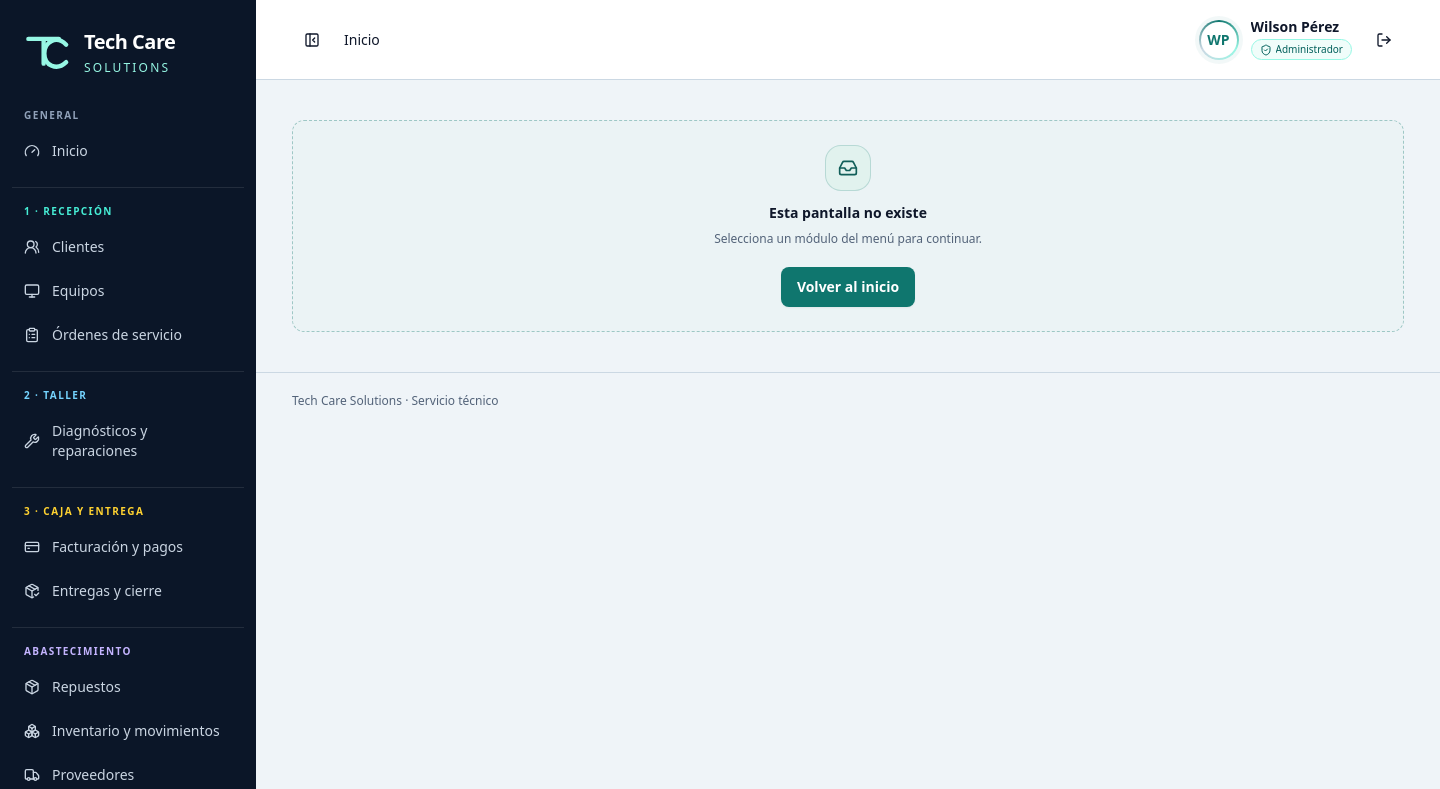
navegación y sesión de Tech Care Solutions › vuelve al inicio desde ruta desconocida
Click the link "Volver al inicio" at (848, 287), box [781, 267, 915, 307]
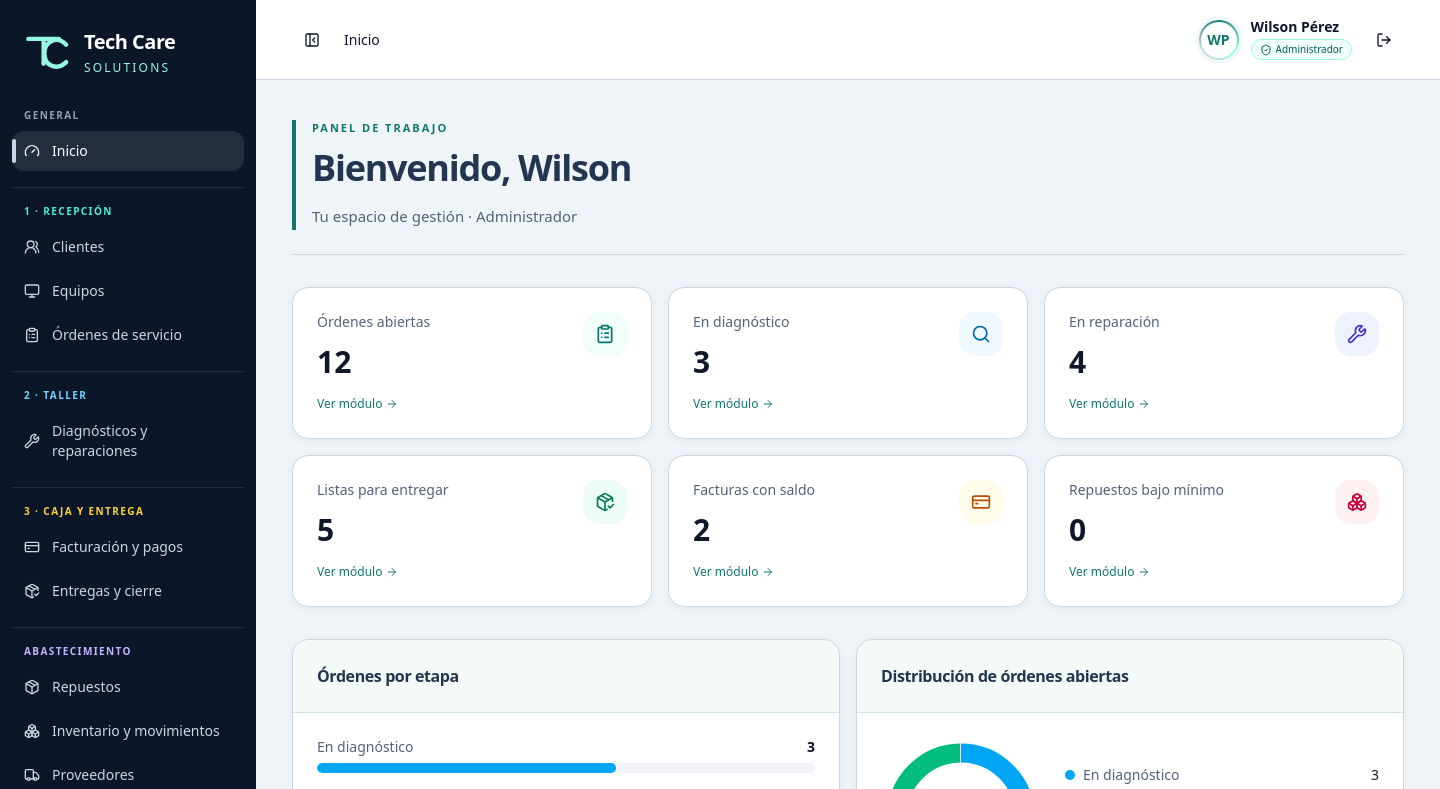
Expected: the heading "Bienvenido, Wilson" is shown, [312, 144, 631, 190]
